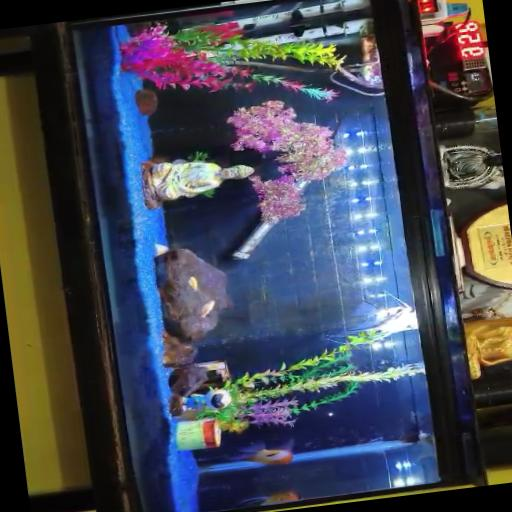Fish: (227, 440, 292, 464), (238, 490, 298, 505), (199, 300, 213, 316), (154, 243, 168, 254), (188, 276, 197, 290)
